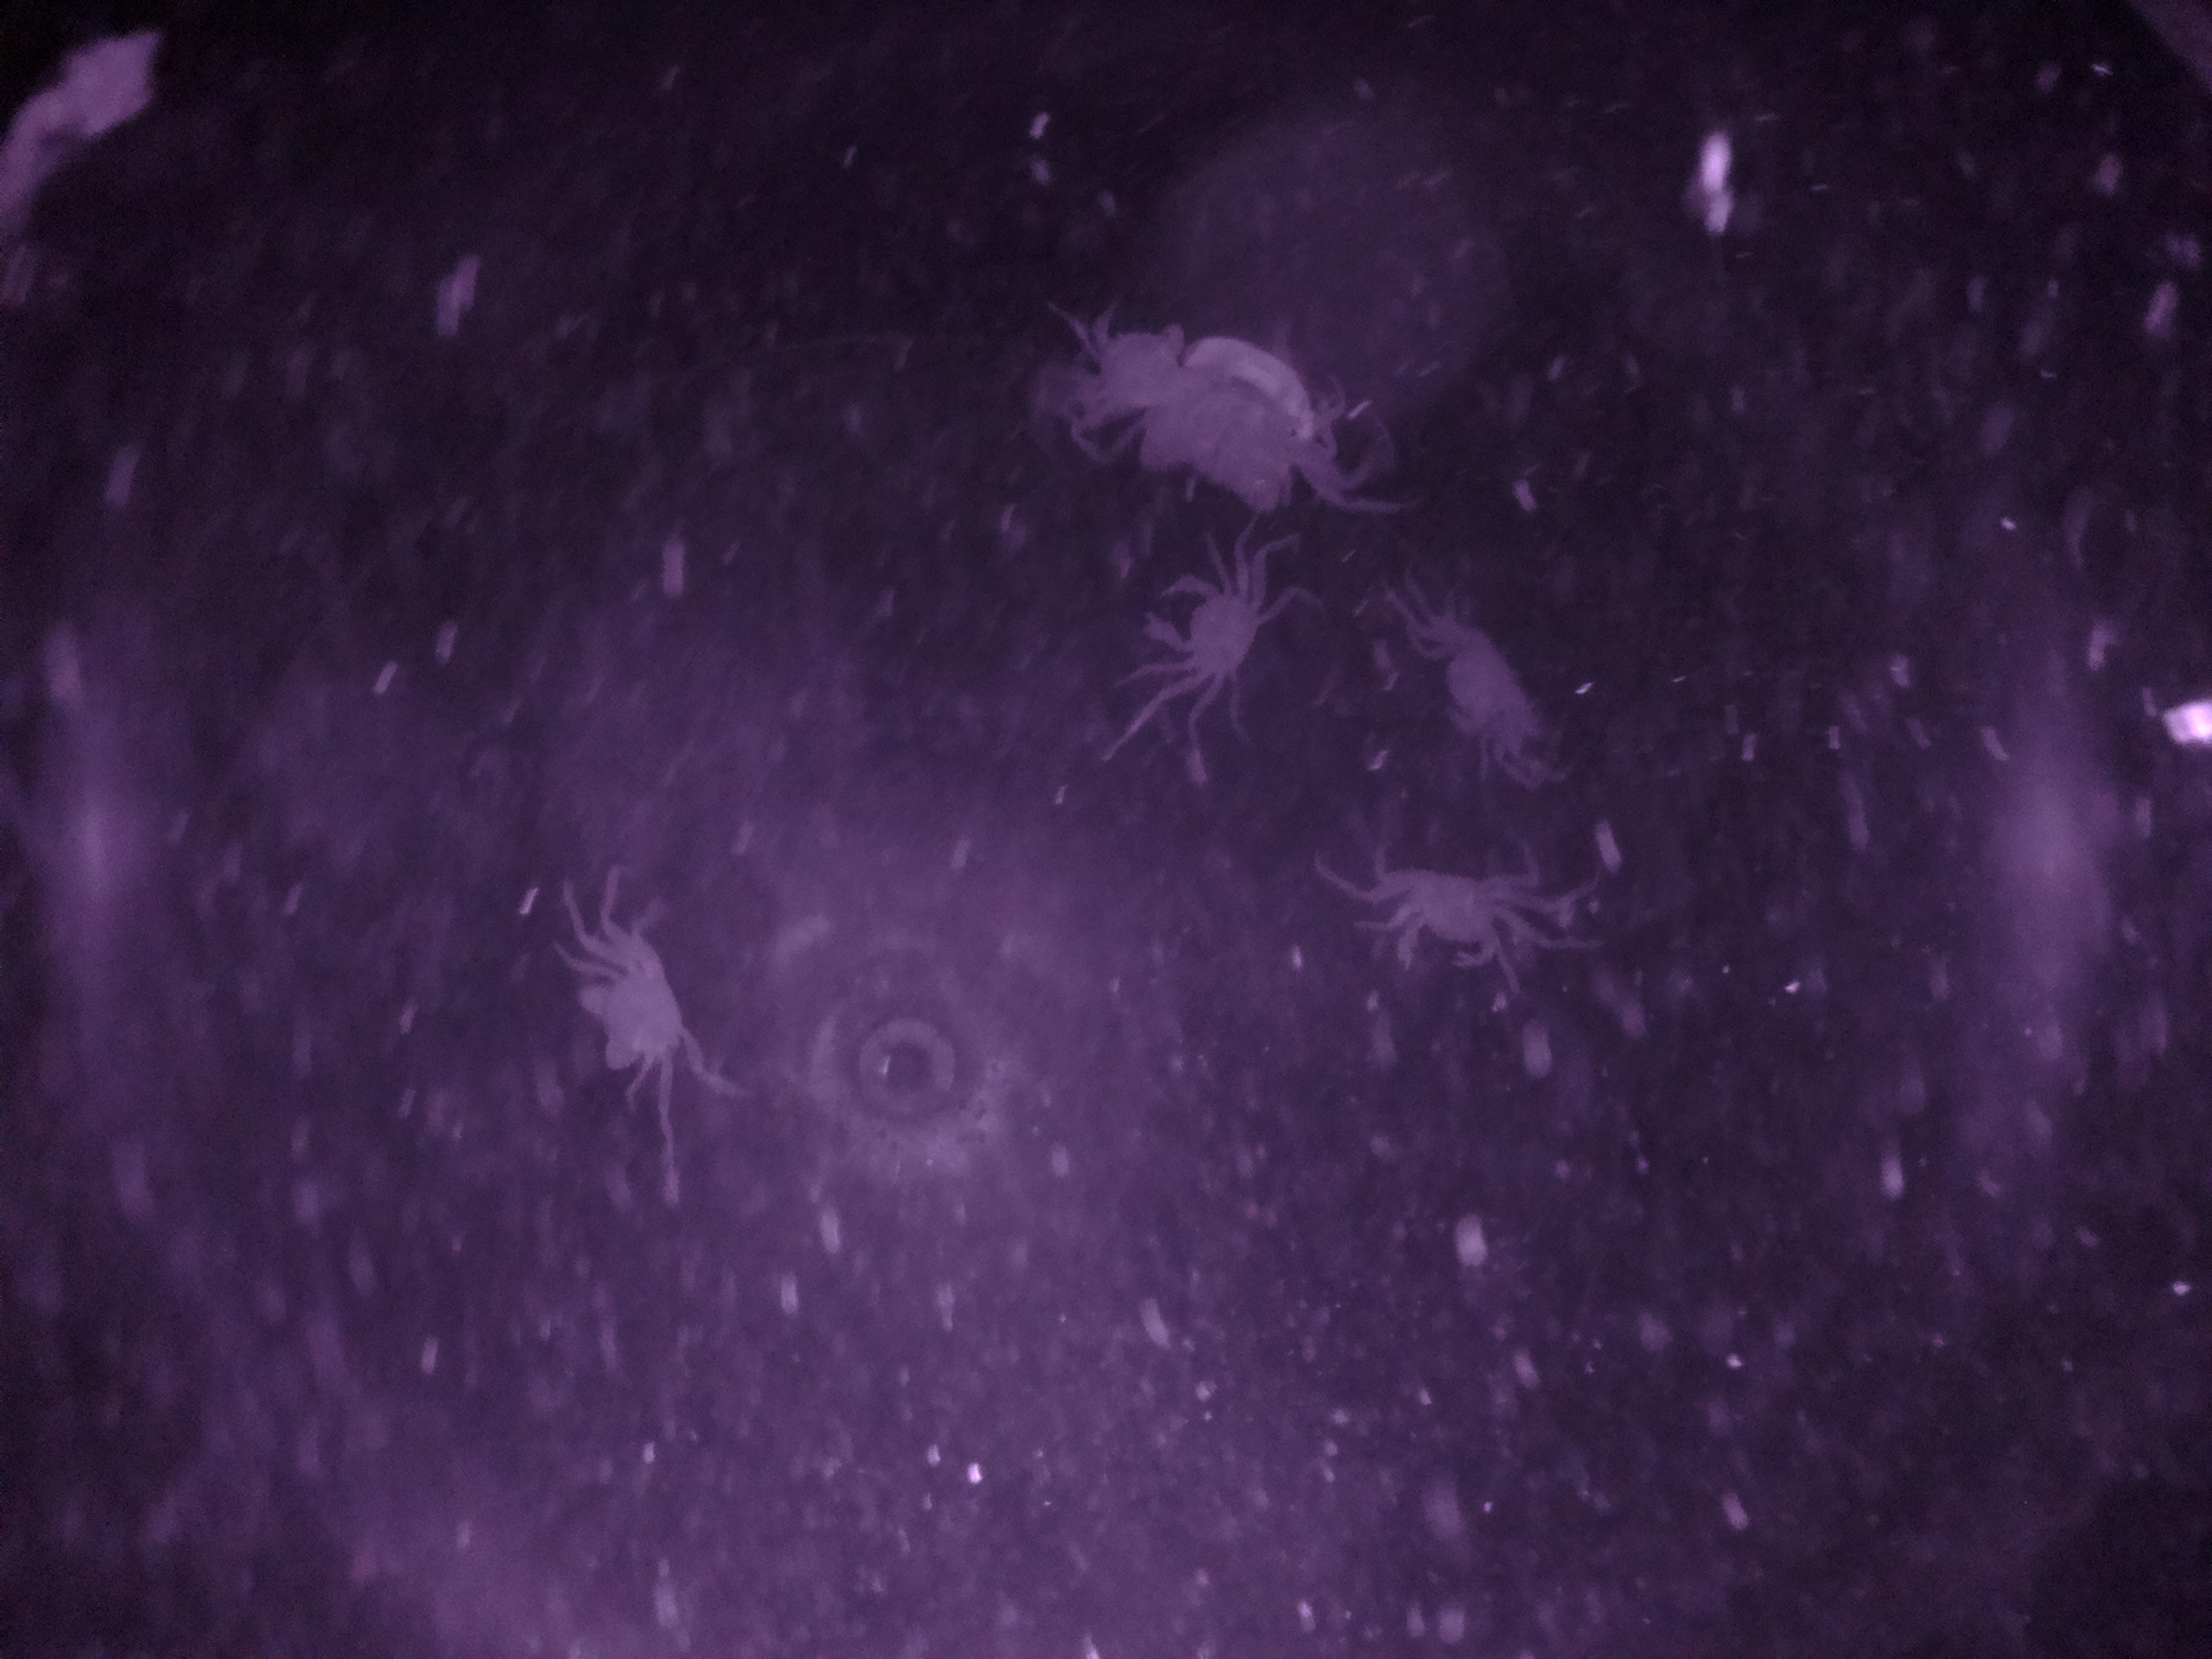Crab: (554, 908, 728, 1117), (1125, 540, 1289, 735), (1345, 852, 1547, 979)
